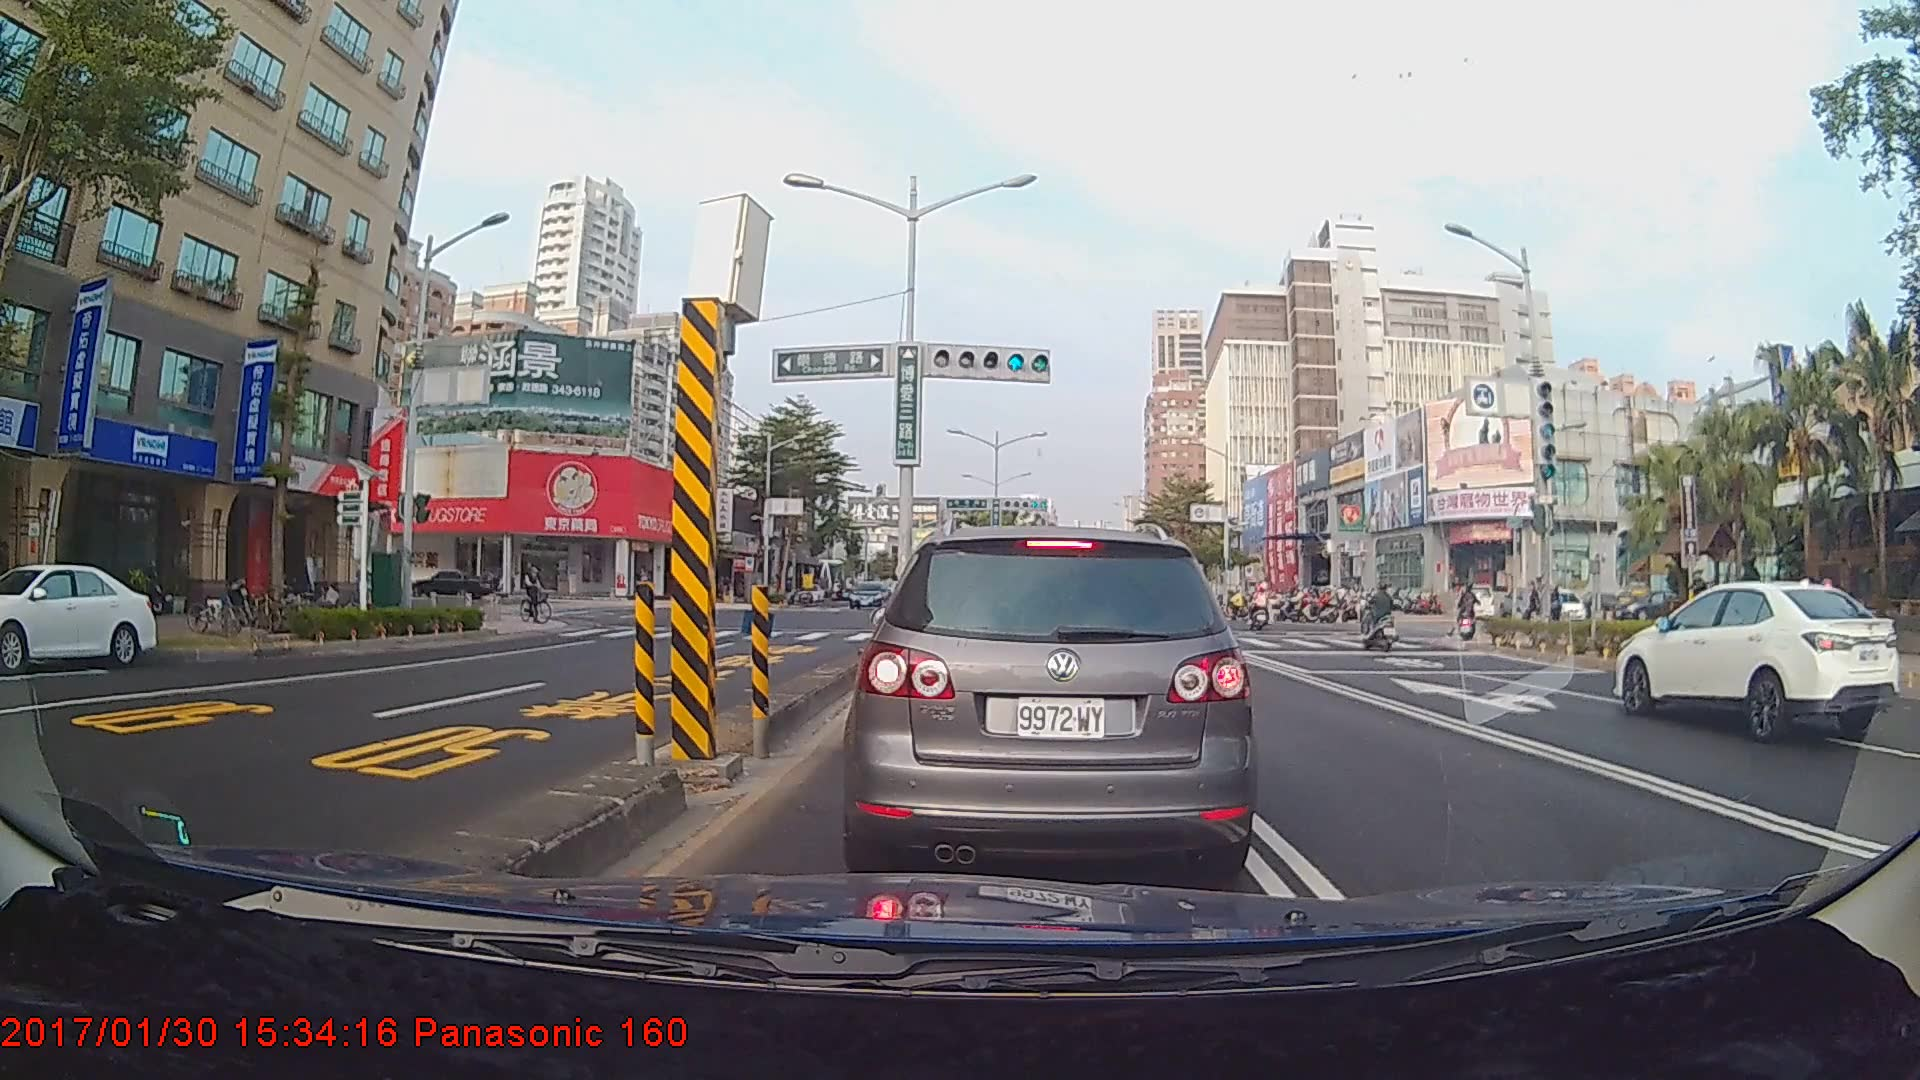rider: (1357, 580, 1407, 654), (518, 559, 561, 629), (1449, 582, 1479, 646), (1249, 580, 1275, 637)
vehicle: (853, 520, 1249, 878), (1610, 578, 1901, 744), (0, 561, 158, 671), (408, 568, 493, 601), (847, 581, 884, 609)
